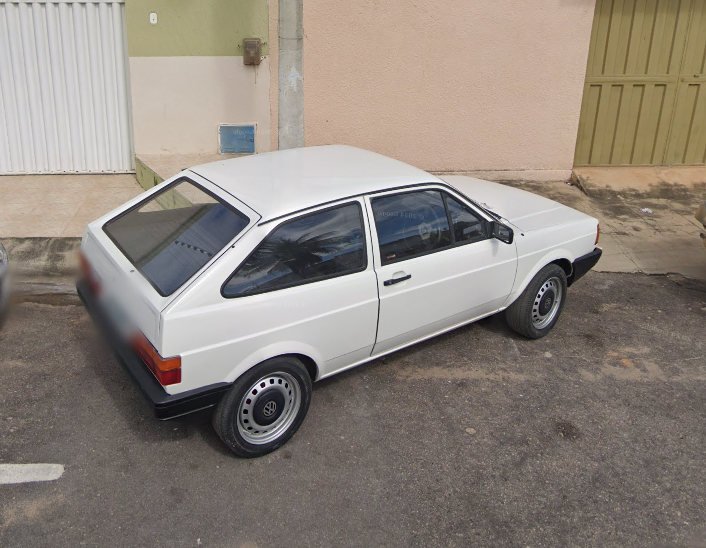car: (70, 140, 608, 460)
